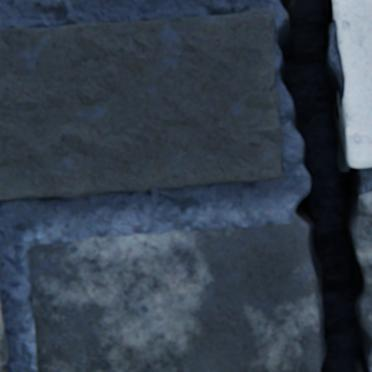brick: (0, 9, 283, 200), (332, 0, 371, 168), (0, 275, 9, 371), (0, 248, 1, 267)
broken_brick: (30, 215, 321, 371), (351, 192, 371, 365)
crack: (277, 0, 370, 371)
